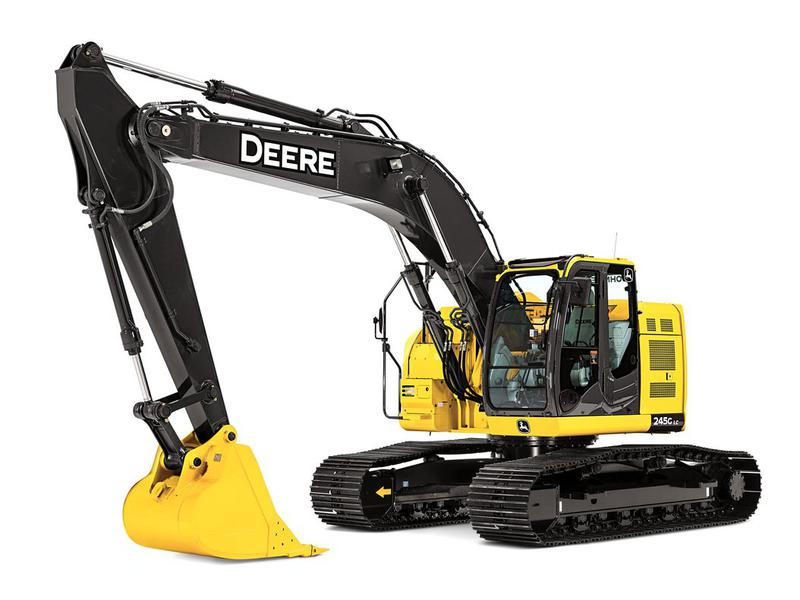shovel: (53, 36, 771, 567)
